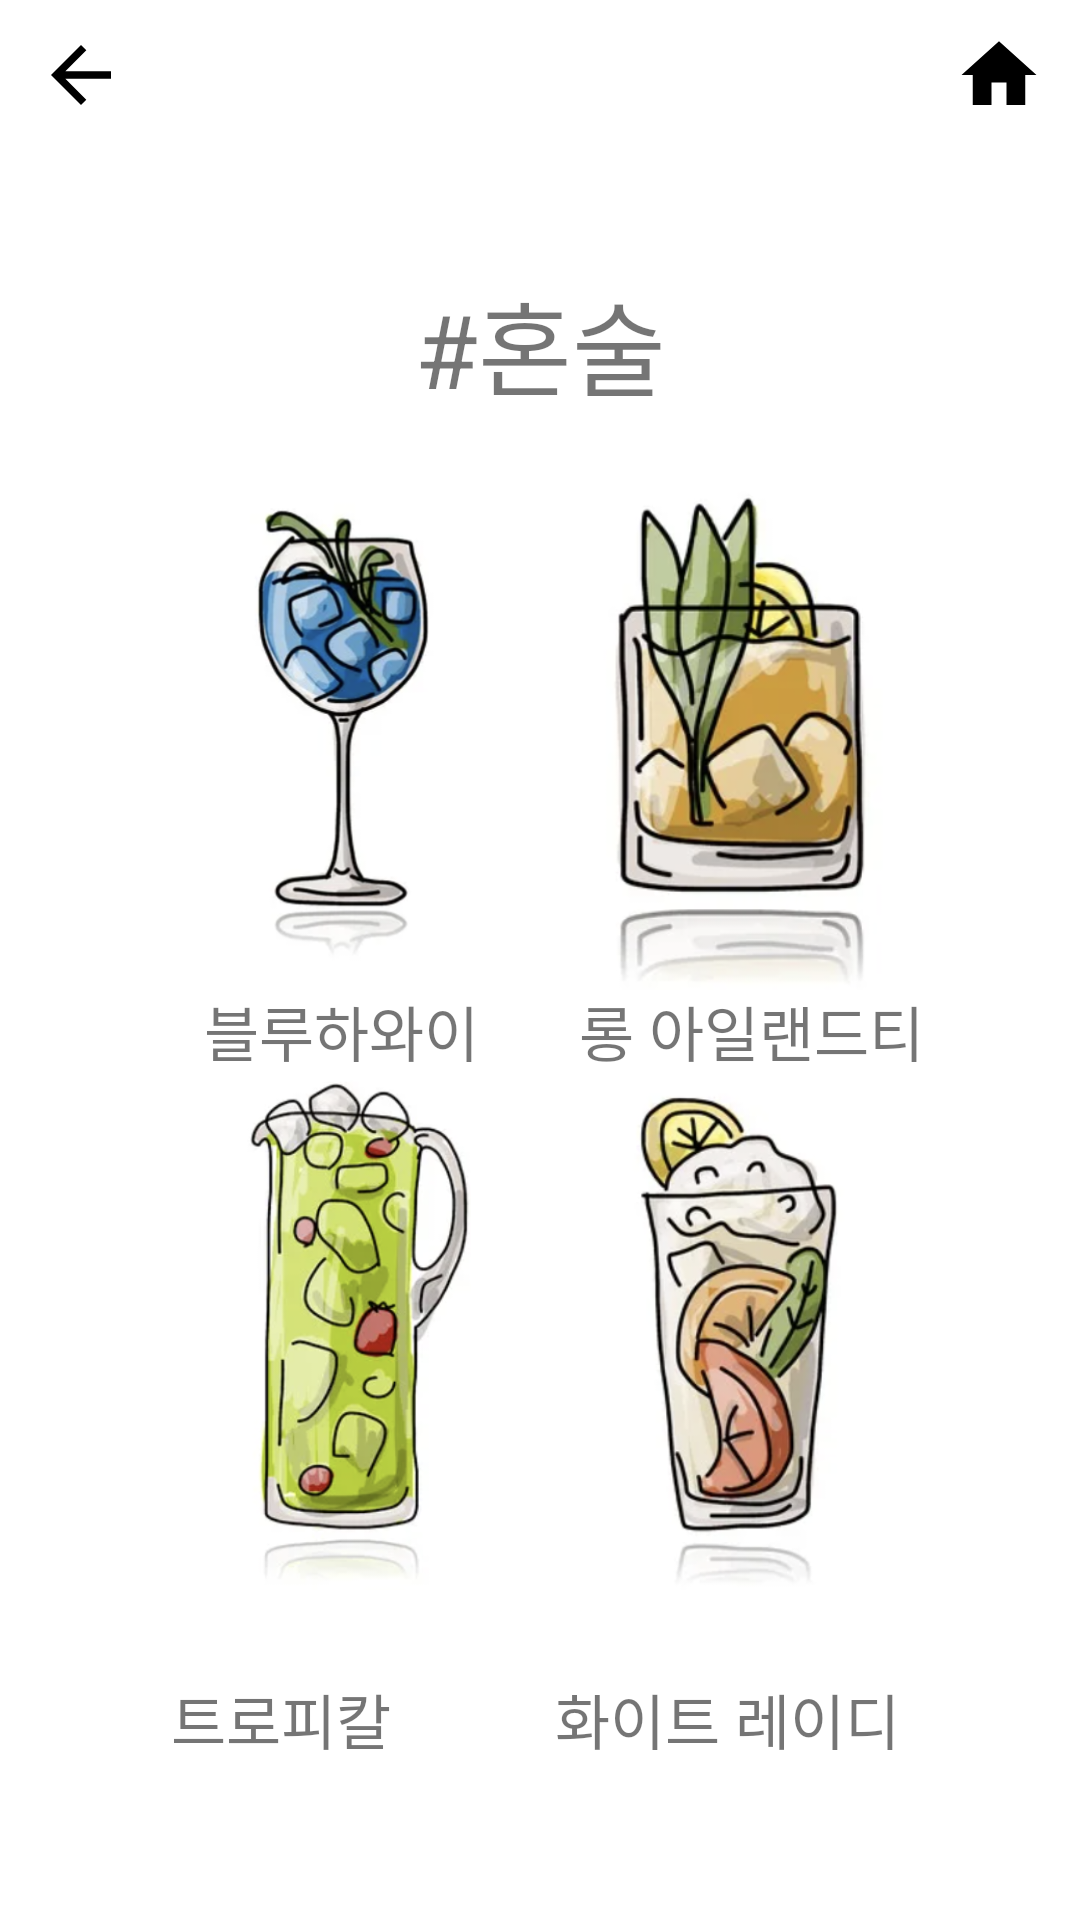

Icon click points for this 1080 × 1920 phone screenshot, format (x=x, y=y):
arrow back: (x=81, y=75)
home: (x=999, y=73)
